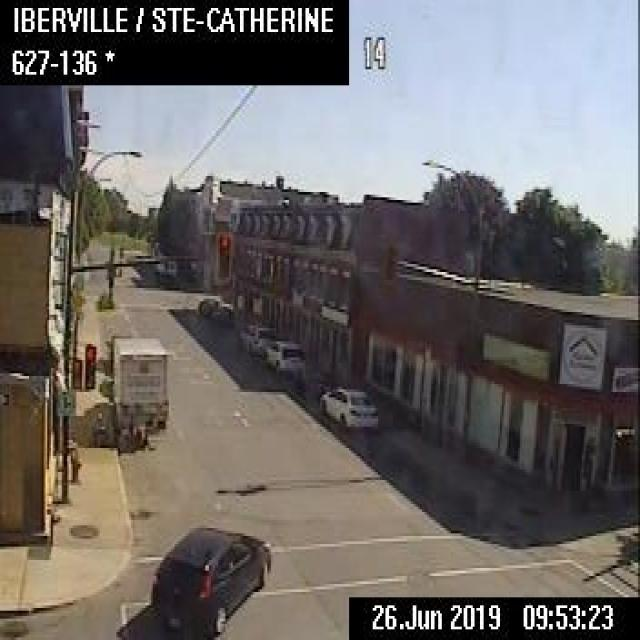pedestrian: (131, 424, 151, 448), (92, 408, 105, 444), (116, 426, 131, 450)
vehicle: (149, 522, 271, 637), (111, 336, 167, 430), (317, 384, 378, 429), (261, 338, 305, 376), (238, 317, 275, 353), (104, 332, 132, 369), (195, 294, 233, 319)
